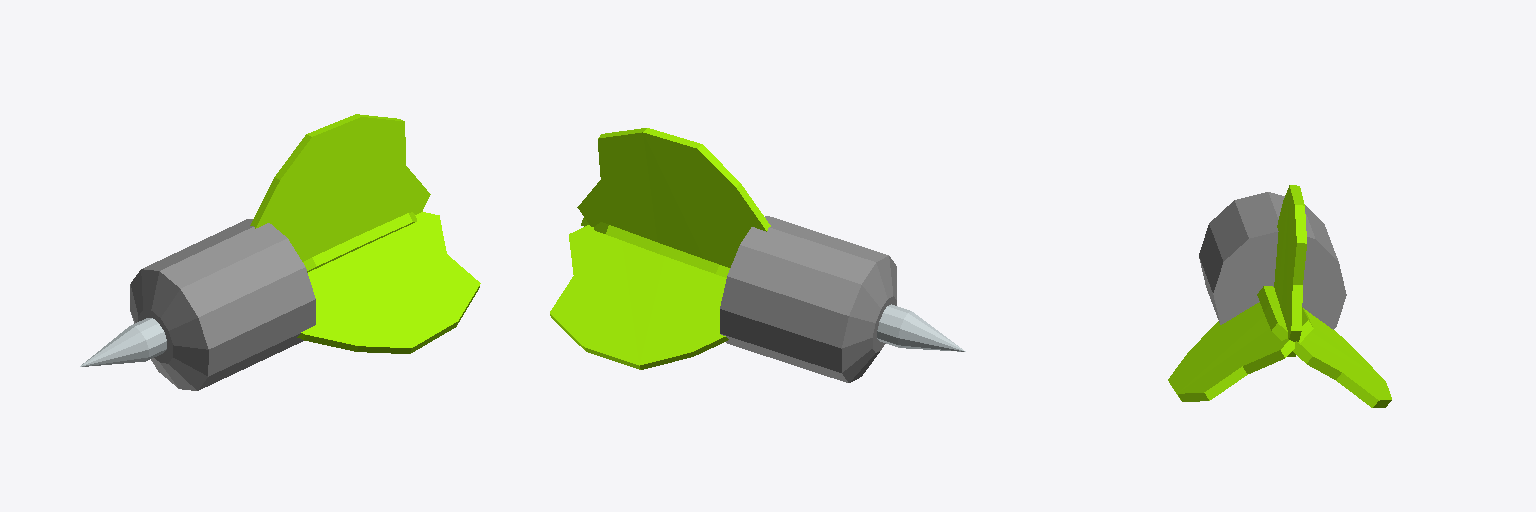
Rendered from Dart.obj.
3 renders of one model, left to right at view 1: azimuth 30°, elevation 25°; view 2: azimuth 150°, elevation 25°; view 3: azimuth 270°, elevation 25°, orthographic.
Visible parts, largest first — view 1: model; view 2: model; view 3: model.
Boxes of the visible parts, box(x1,y1,x2,y2) form: model: box(80, 114, 480, 390); model: box(550, 128, 965, 382); model: box(1168, 185, 1391, 407).
Bounding box in the file's own units: 0.2139 × 0.1155 × 0.1108.